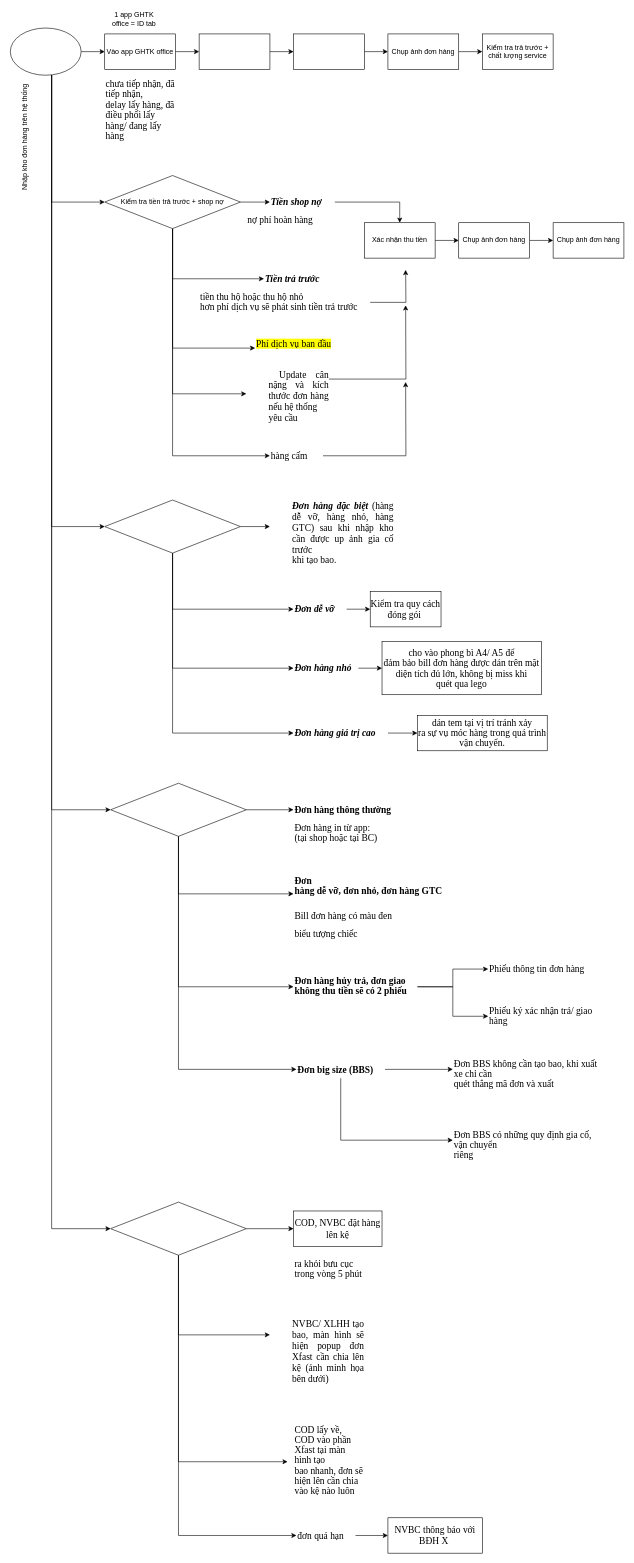
Some shapes in this 634 by 1563 pixel diagram are drawn without their labels. The centre of each missing label's shape, as x and y in pixels:
BC: (45,51)
In bill đơn hàng: (328,51)
Kiểm tra + gia cố hàng hóa: (172,526)
Nhập mã đơn hàng: (234,51)
Quy trình xử lý từng loại đơn: (178,809)
Đơn Xfast: (178,1228)
